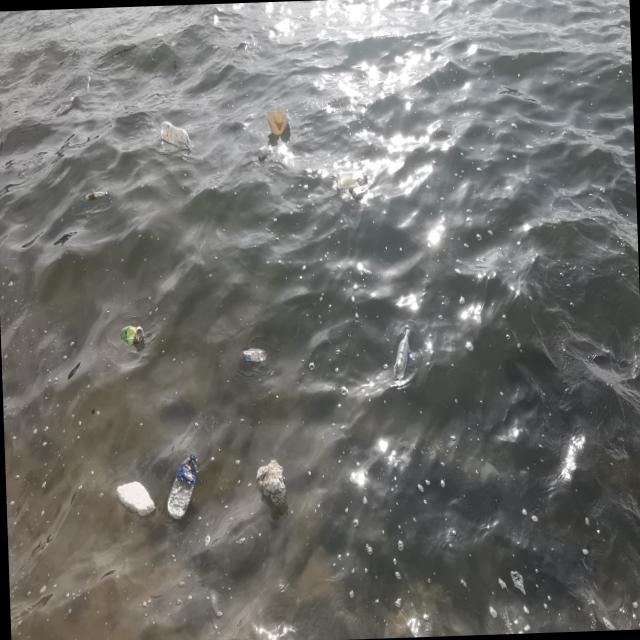can: (120, 322, 144, 351)
foam: (255, 458, 288, 508), (116, 480, 156, 517)
plastic: (164, 452, 198, 520), (392, 329, 411, 378), (160, 120, 191, 148), (335, 172, 367, 186), (258, 146, 268, 158)
plastic bottle: (266, 108, 290, 135), (82, 190, 110, 203)
unknow: (241, 348, 266, 362)
